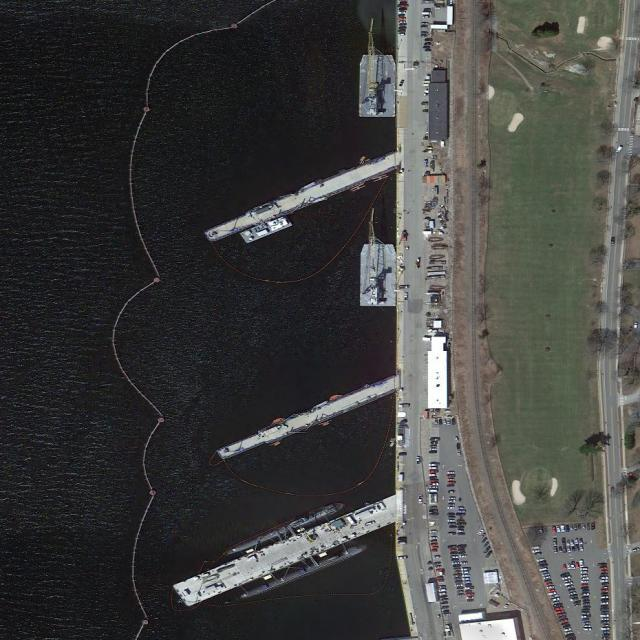Dock: (173, 493, 407, 611), (201, 147, 403, 246), (220, 373, 403, 462)
Submarine: (236, 543, 368, 601), (226, 502, 343, 555)
